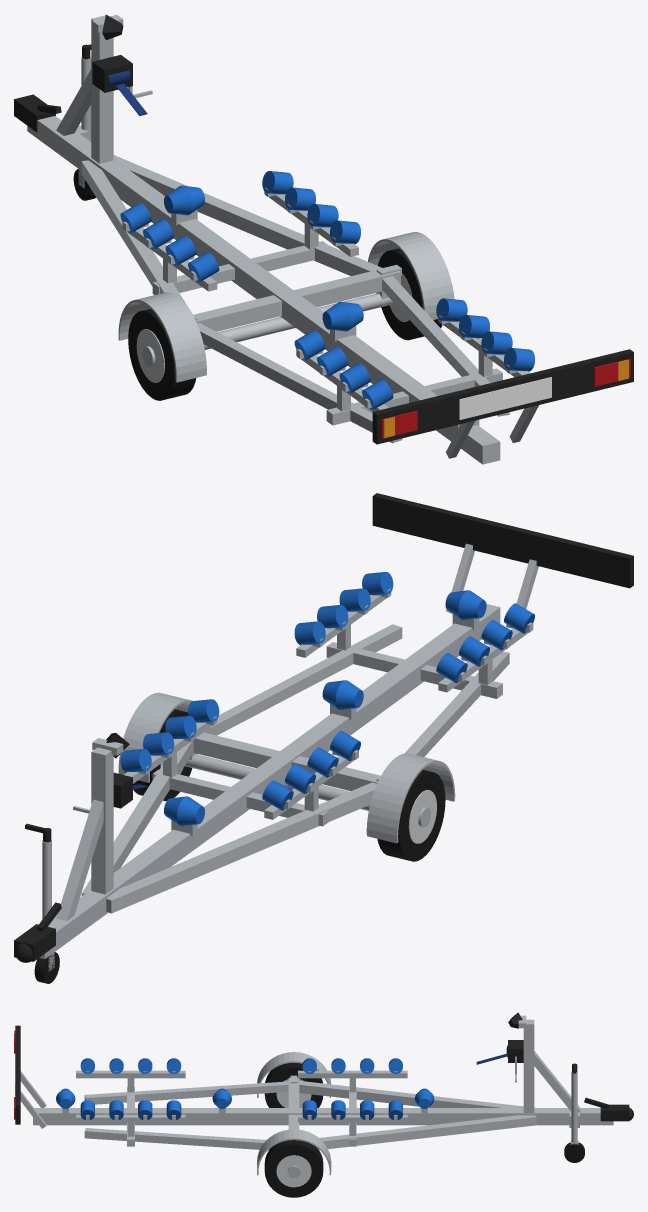
File: ext750-maxi-roller.glb
The picture shows the model from 3 angles, top to bottom: view 1: azimuth 30°, elevation 25°; view 2: azimuth 150°, elevation 25°; view 3: azimuth 270°, elevation 25°; orthographic projection. The views are drawn at different scales.
Parts seen in each view (by area): view 1: Frame, LightBoard, WobbleRollers, Mudguards, Wheels, WinchPost, RollerArms, KeelRollers, Winch, Axle, JockeyWheel, Coupling; view 2: Frame, LightBoard, WobbleRollers, Mudguards, WinchPost, Wheels, RollerArms, KeelRollers, JockeyWheel, Coupling, Axle, Winch; view 3: Frame, Wheels, WobbleRollers, RollerArms, WinchPost, Mudguards, LightBoard, JockeyWheel, KeelRollers, Coupling, Winch.
Boxes of the visible parts, <box> form: Frame: <box>27,116,509,464</box>; LightBoard: <box>372,349,633,458</box>; WobbleRollers: <box>120,171,534,409</box>; Mudguards: <box>118,232,454,382</box>; Wheels: <box>128,248,442,400</box>; WinchPost: <box>56,14,123,163</box>; RollerArms: <box>122,187,530,411</box>; KeelRollers: <box>164,185,363,331</box>; Winch: <box>92,55,152,115</box>; Axle: <box>204,291,394,349</box>; JockeyWheel: <box>73,44,95,200</box>; Coupling: <box>14,94,61,132</box>; Frame: <box>39,604,509,958</box>; LightBoard: <box>372,493,633,613</box>; WobbleRollers: <box>120,572,534,810</box>; Mudguards: <box>118,692,455,843</box>; WinchPost: <box>56,733,129,920</box>; Wheels: <box>133,709,445,861</box>; RollerArms: <box>124,588,533,819</box>; KeelRollers: <box>164,590,486,826</box>; JockeyWheel: <box>25,823,59,983</box>; Coupling: <box>14,902,61,962</box>; Axle: <box>185,753,369,810</box>; Winch: <box>73,772,147,813</box>; Frame: <box>33,1075,613,1150</box>; Wheels: <box>264,1063,323,1197</box>; WobbleRollers: <box>80,1058,402,1119</box>; RollerArms: <box>76,1070,407,1122</box>; WinchPost: <box>508,1012,581,1112</box>; Mudguards: <box>257,1052,331,1175</box>; LightBoard: <box>14,1025,46,1128</box>; JockeyWheel: <box>564,1063,584,1162</box>; KeelRollers: <box>56,1088,434,1108</box>; Coupling: <box>584,1097,633,1121</box>; Winch: <box>476,1040,523,1082</box>.
Size of the model in its own units: 1.57 by 1.2 by 4.75.
